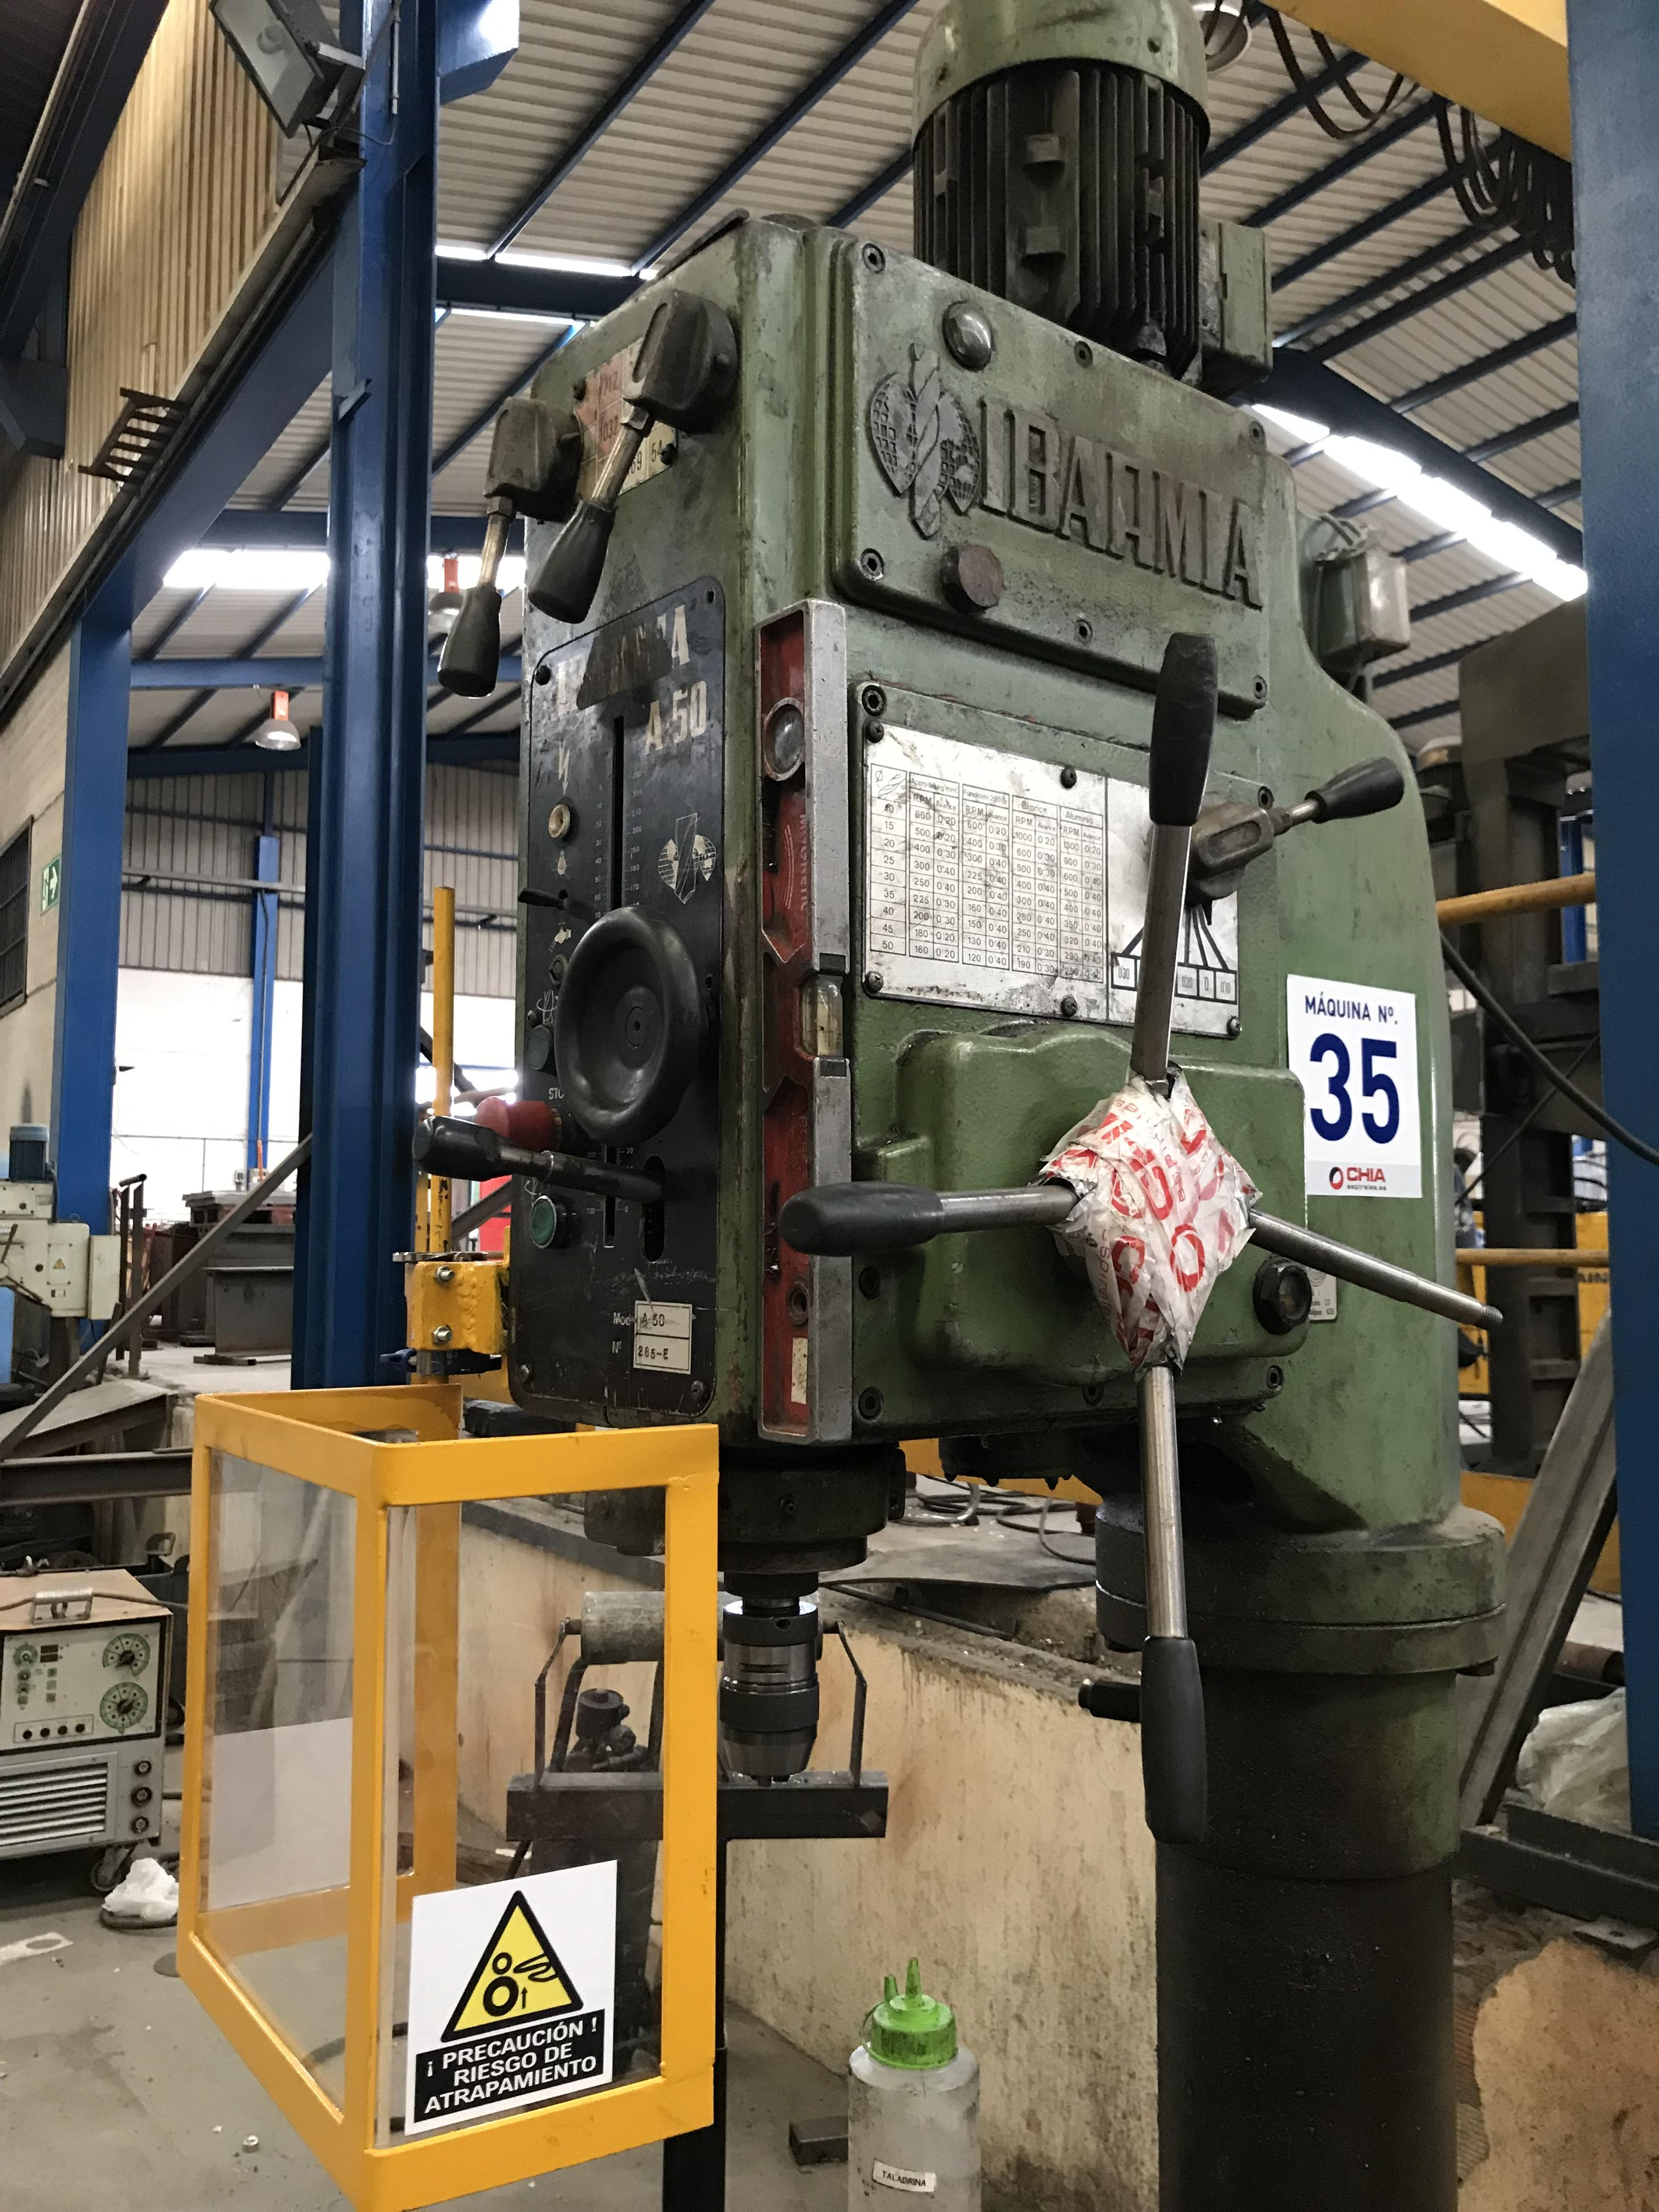falta_resguardo: (680, 1444, 904, 1857)
mandos_inseguros: (504, 601, 732, 1418)
sin_indicador_emergencia: (636, 481, 721, 571)
